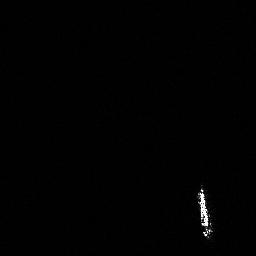ship: (194, 184, 217, 240)
